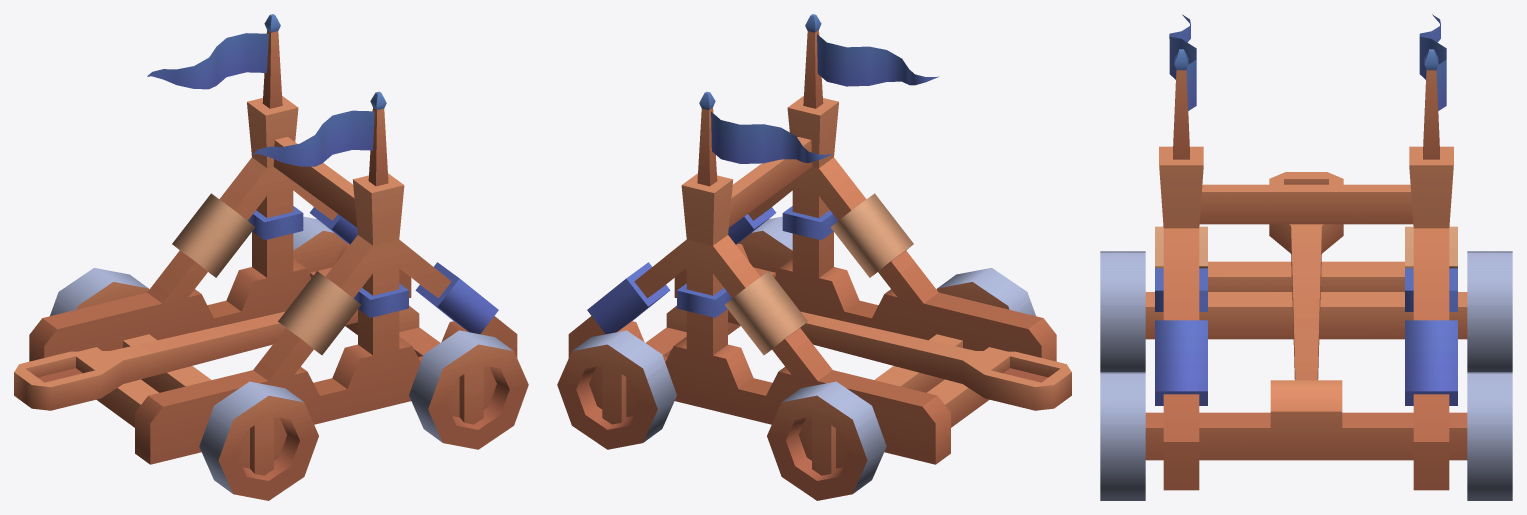
Rendered from k-castle-siege-catapult.glb.
3 views of the same model, side by side, from view 1: azimuth 30°, elevation 25°; view 2: azimuth 150°, elevation 25°; view 3: azimuth 270°, elevation 25° (orthographic). The views are drawn at different scales.
Visible parts, largest first — view 1: siege-catapult, wheel (×4), catapult; view 2: siege-catapult, wheel (×4), catapult; view 3: siege-catapult, wheel (×4), catapult.
Part boxes in pixels (x1,y1,x2,y2): siege-catapult: (29, 14, 517, 464); wheel (×4): (50, 216, 528, 500); catapult: (14, 309, 357, 410); siege-catapult: (568, 14, 1056, 464); wheel (×4): (557, 216, 1035, 500); catapult: (728, 309, 1071, 410); siege-catapult: (1145, 14, 1467, 490); wheel (×4): (1100, 251, 1512, 500); catapult: (1269, 172, 1343, 380).
Bounding box in the file's own units: 1.73 × 1.33 × 1.21.
1 material, 1 textured.
